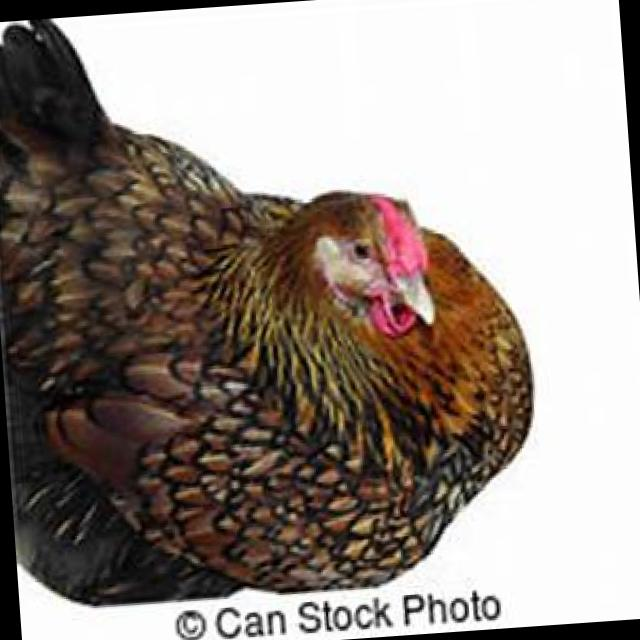animal: (0, 0, 547, 612)
